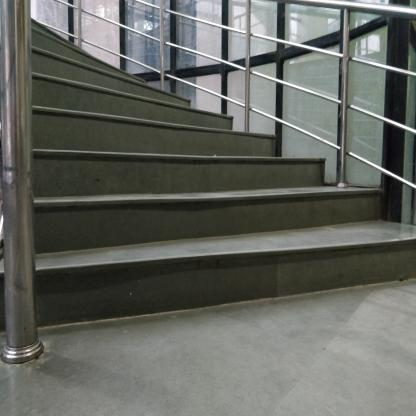stairs: (42, 139, 310, 336)
